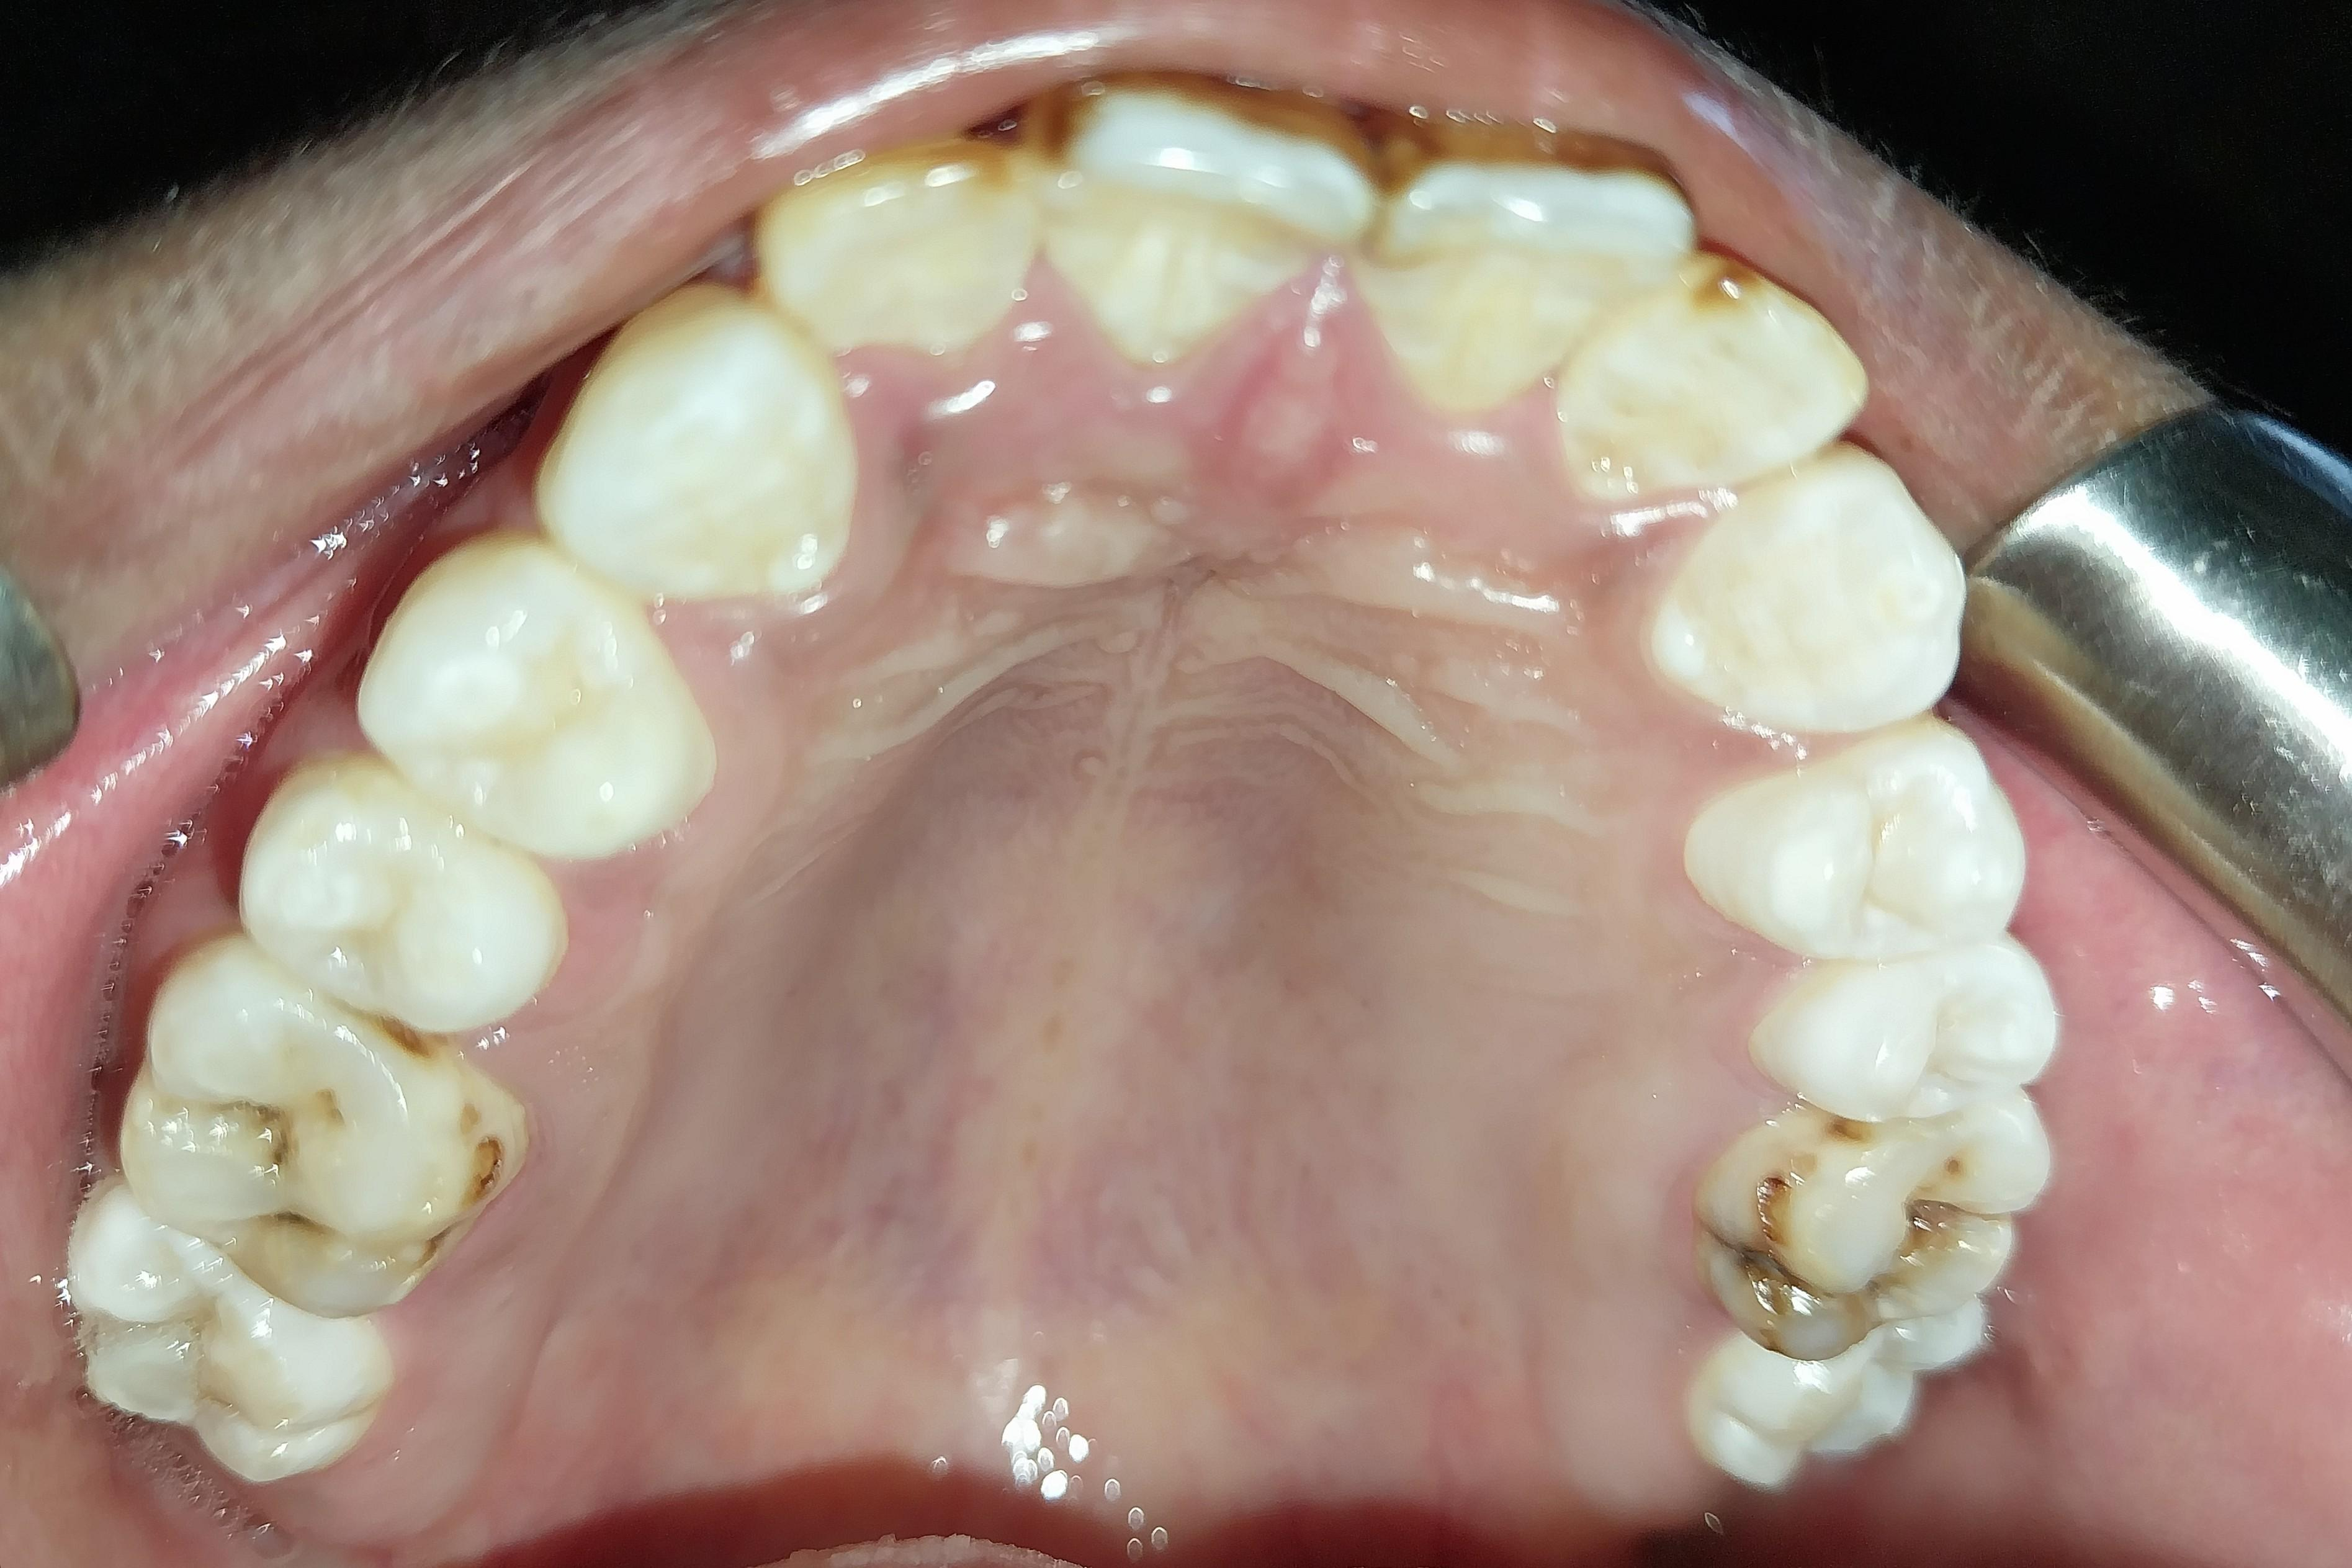D: (120, 940, 521, 1314), (1704, 1103, 2056, 1357)
